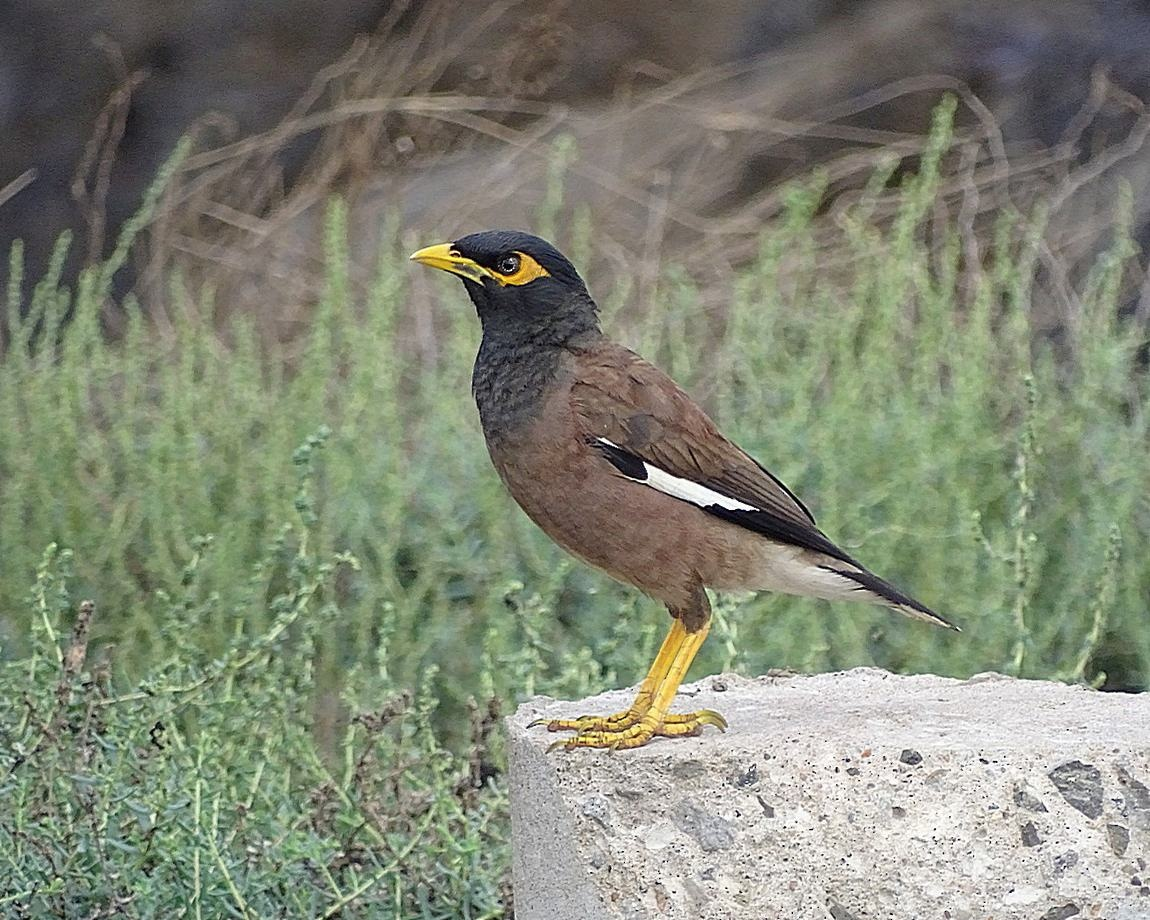myna: (391, 222, 902, 785)
